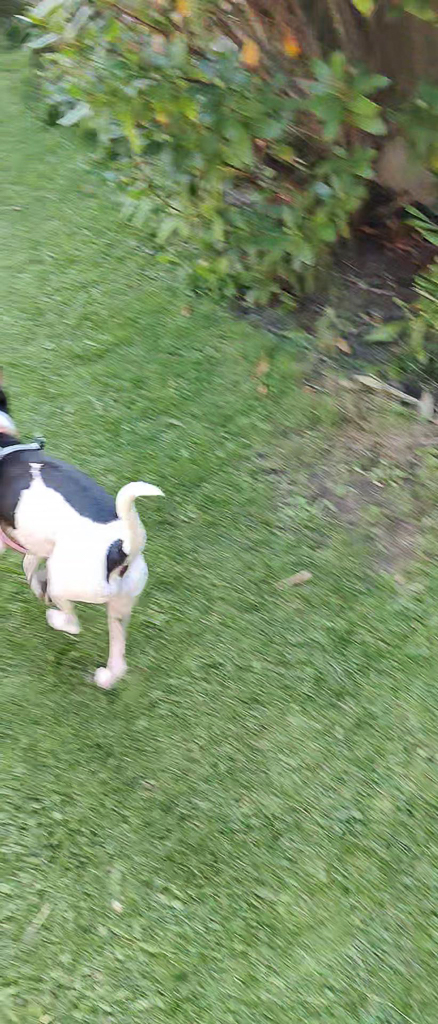Dog: (0, 369, 183, 703)
